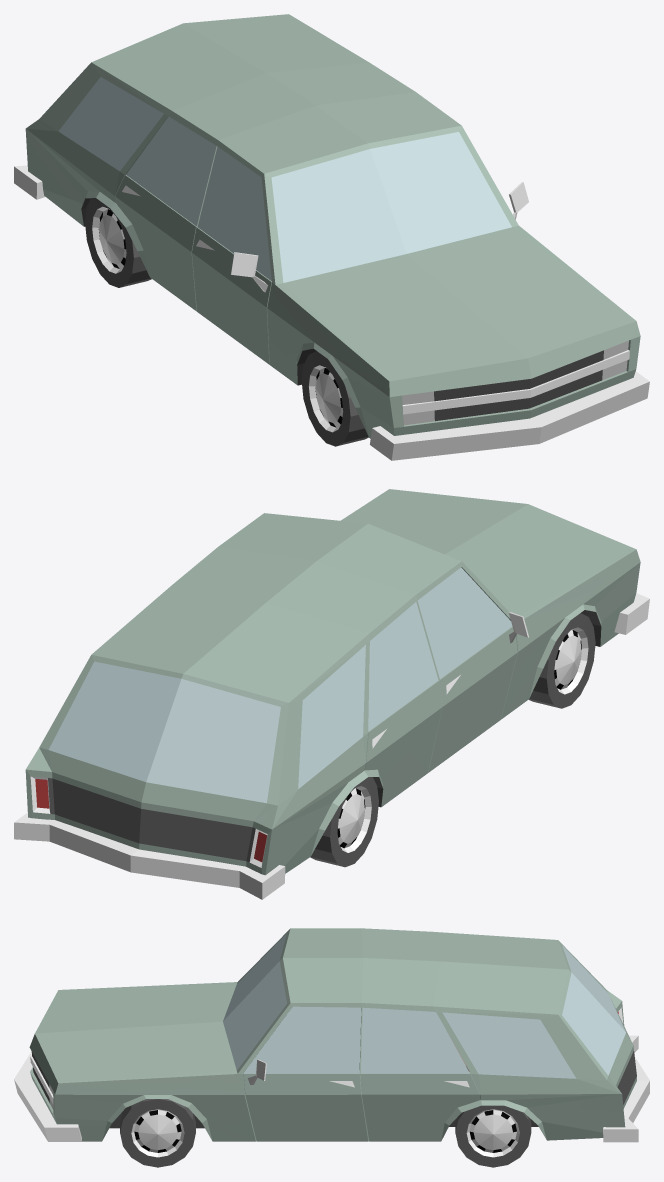
File: carro2.obj
3 views of the same model, one above another, from view 1: azimuth 30°, elevation 25°; view 2: azimuth 150°, elevation 25°; view 3: azimuth 270°, elevation 25° (orthographic). The views are drawn at different scales.
Parts seen in each view (by area): view 1: wagon_A_DoorL; view 2: wagon_A_DoorL; view 3: wagon_A_DoorL.
Boxes of the visible parts, x1,y1,x2,y2 form: wagon_A_DoorL: [14, 14, 649, 460]; wagon_A_DoorL: [14, 489, 649, 899]; wagon_A_DoorL: [14, 928, 649, 1167].
Size of the model in its own units: 3.78 by 2.55 by 9.02.
Materials: 1 (1 with a texture image).
